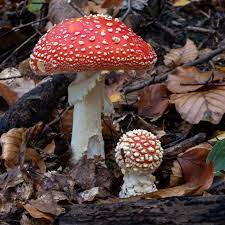Amanita muscaria: (25, 19, 160, 166), (112, 129, 171, 199)
